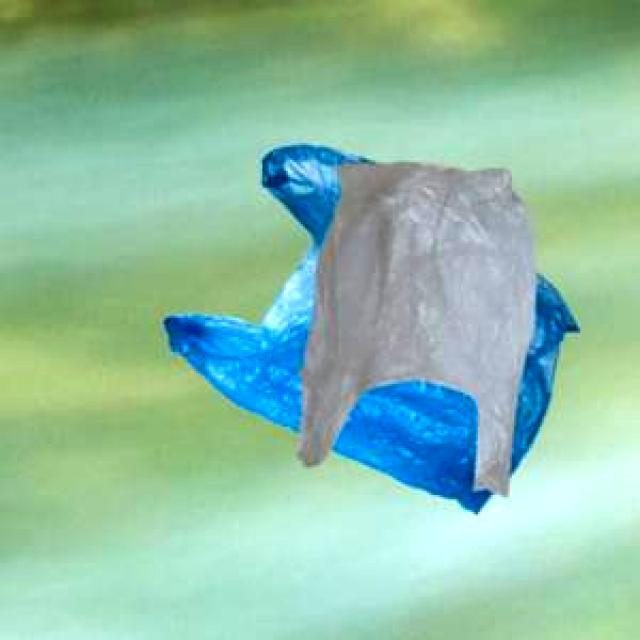Plastic_Bag: (161, 142, 575, 511), (296, 159, 532, 494)
